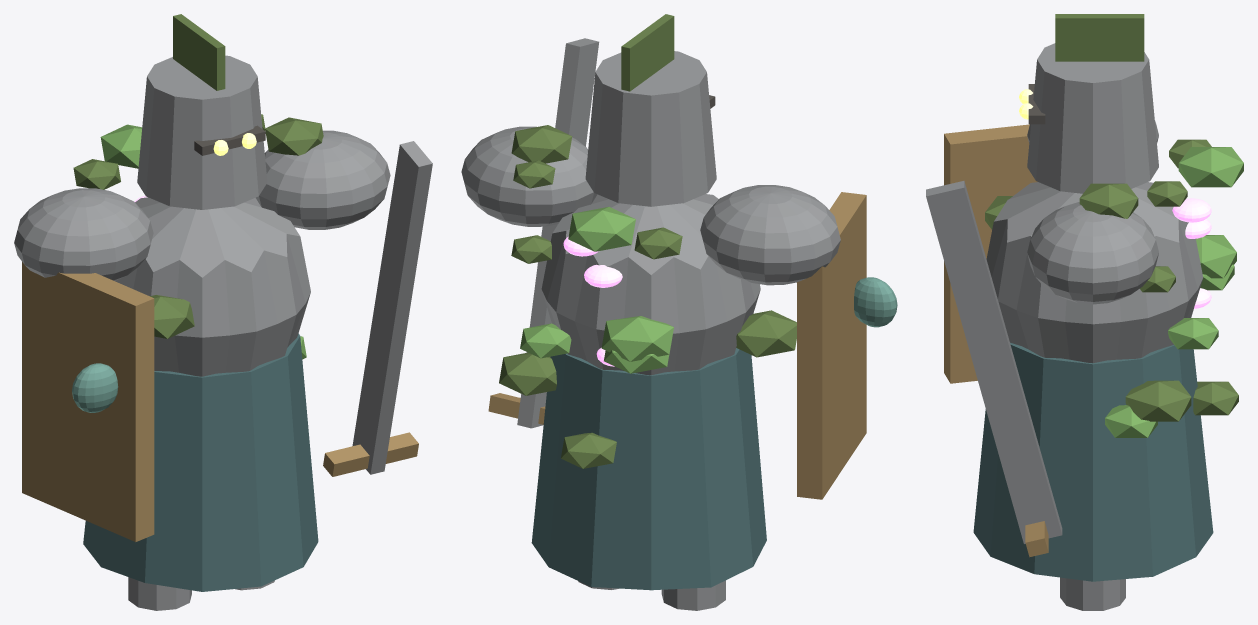
The model's file is moss_knight.glb.
3 renders of one model, left to right at view 1: azimuth 30°, elevation 25°; view 2: azimuth 150°, elevation 25°; view 3: azimuth 270°, elevation 25°, orthographic.
Visible parts, largest first — view 1: moss_knight; view 2: moss_knight; view 3: moss_knight.
Boxes of the visible parts, x1=… form: moss_knight: x1=14, y1=14, x2=432, y2=610; moss_knight: x1=461, y1=14, x2=897, y2=610; moss_knight: x1=926, y1=14, x2=1243, y2=610.
Bounding box in the file's own units: 1.31 × 1.88 × 0.9637.
